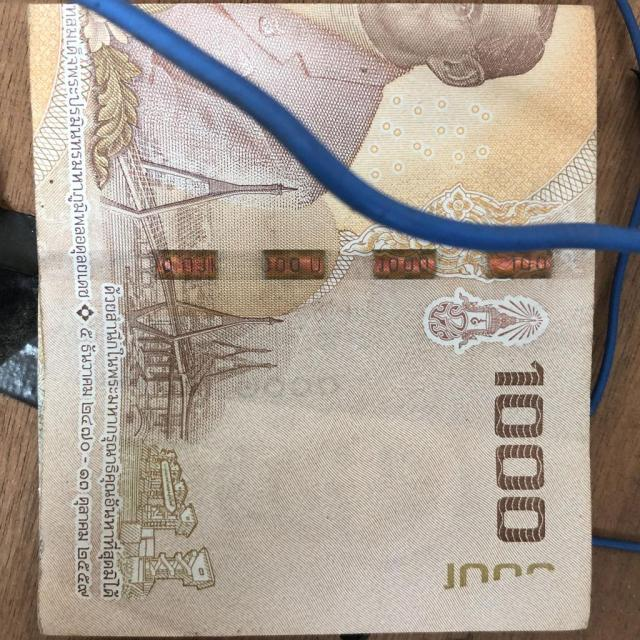THAI1000: (27, 2, 596, 639), (141, 2, 598, 222)
